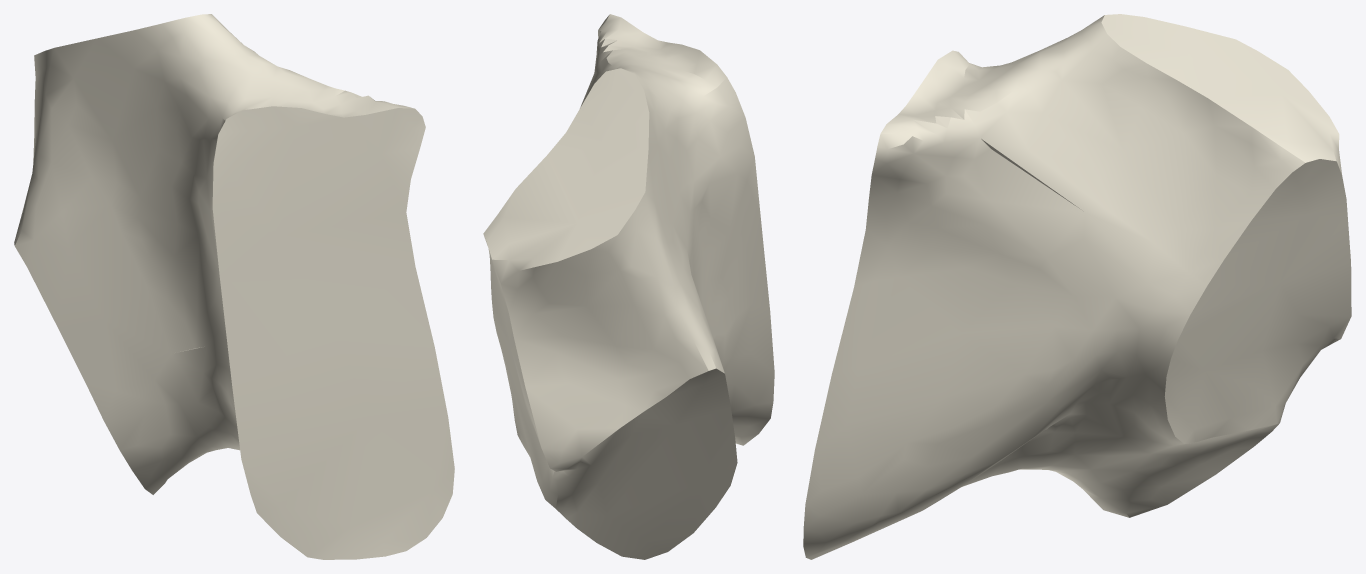
Rendered from fma12109_mm2393.glb.
3 views of the same model, side by side, from view 1: azimuth 30°, elevation 25°; view 2: azimuth 150°, elevation 25°; view 3: azimuth 270°, elevation 25° (orthographic). The views are drawn at different scales.
Parts seen in each view (by area): view 1: FMA12109_MM2393; view 2: FMA12109_MM2393; view 3: FMA12109_MM2393.
Boxes of the visible parts, <box> form: FMA12109_MM2393: <box>14,14,454,559</box>; FMA12109_MM2393: <box>483,14,774,559</box>; FMA12109_MM2393: <box>803,14,1351,559</box>.
Size of the model in its own units: 0.0122 by 0.0211 by 0.0204.
